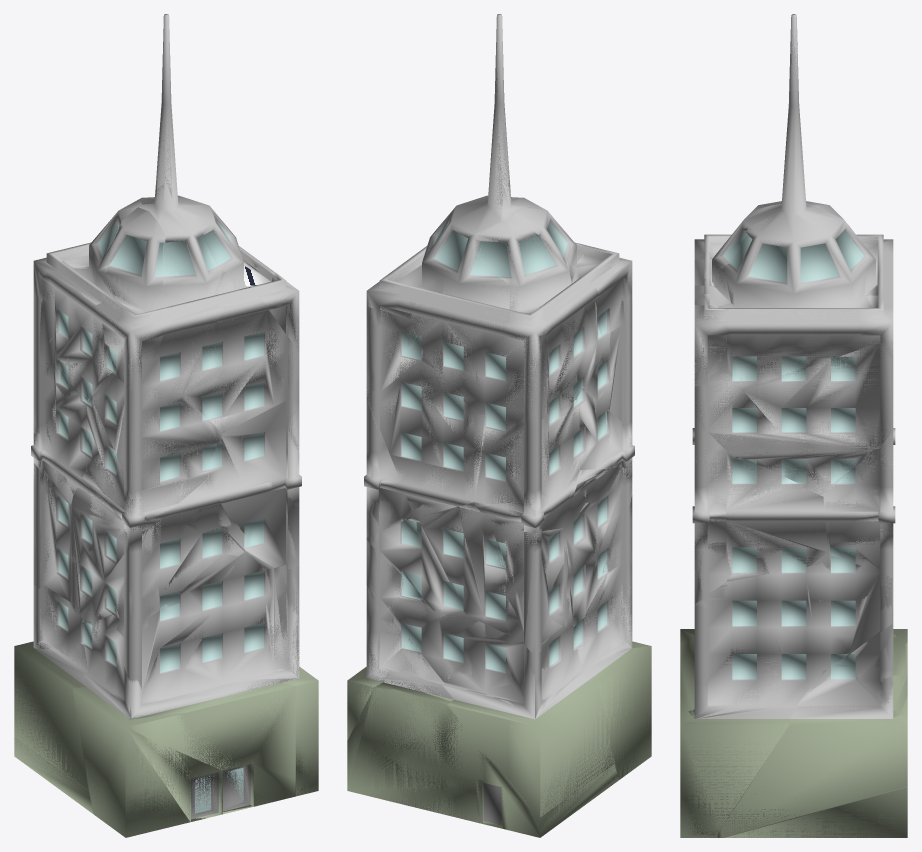
File: Building3.fbx
3 renders of one model, left to right at view 1: azimuth 30°, elevation 25°; view 2: azimuth 150°, elevation 25°; view 3: azimuth 270°, elevation 25°, orthographic. The views are drawn at different scales.
Visible parts, largest first — view 1: Cube.006, Cube.006_cell.023, Cube.006_cell.026, Cube.006_cell.015, Cube.006_cell.028, Cube.006_cell.018, Cube.006_cell.022, Cube.006_cell.001, Cube.006_cell.005, Cube.006_cell.017, Cube.006_cell.010, Cube.006_cell.025 (+7 smaller); view 2: Cube.006, Cube.006_cell.020, Cube.006_cell.028, Cube.006_cell.022, Cube.006_cell.019, Cube.006_cell.023, Cube.006_cell.011, Cube.006_cell.029, Cube.006_cell.005, Cube.006_cell.010, Cube.006_cell.007, Cube.006_cell.012 (+13 smaller); view 3: Cube.006, Cube.006_cell.024, Cube.006_cell, Cube.006_cell.013, Cube.006_cell.002, Cube.006_cell.006, Cube.006_cell.020, Cube.006_cell.014, Cube.006_cell.009, Cube.006_cell.027, Cube.006_cell.026, Cube.006_cell.018 (+4 smaller).
Part boxes in pixels (x1,y1,x2,y2): Cube.006: (14, 15, 318, 837); Cube.006_cell.023: (73, 551, 295, 837); Cube.006_cell.026: (208, 397, 301, 569); Cube.006_cell.015: (92, 373, 221, 498); Cube.006_cell.028: (14, 585, 88, 789); Cube.006_cell.018: (138, 173, 222, 394); Cube.006_cell.022: (49, 199, 141, 399); Cube.006_cell.001: (183, 270, 299, 432); Cube.006_cell.005: (71, 471, 146, 623); Cube.006_cell.017: (86, 399, 208, 534); Cube.006_cell.010: (33, 463, 70, 602); Cube.006_cell.025: (116, 479, 245, 624); Cube.006: (347, 15, 651, 833); Cube.006_cell.020: (347, 638, 618, 837); Cube.006_cell.028: (409, 615, 613, 816); Cube.006_cell.022: (469, 221, 600, 409); Cube.006_cell.019: (366, 356, 473, 517); Cube.006_cell.023: (574, 563, 651, 779); Cube.006_cell.011: (423, 502, 523, 641); Cube.006_cell.029: (409, 247, 550, 428); Cube.006_cell.005: (564, 467, 632, 628); Cube.006_cell.010: (493, 528, 564, 653); Cube.006_cell.007: (366, 517, 465, 616); Cube.006_cell.012: (473, 412, 541, 506); Cube.006: (680, 15, 907, 837); Cube.006_cell.024: (715, 666, 907, 837); Cube.006_cell: (705, 340, 893, 494); Cube.006_cell.013: (680, 583, 812, 837); Cube.006_cell.002: (726, 452, 828, 581); Cube.006_cell.006: (726, 47, 892, 389); Cube.006_cell.020: (725, 675, 907, 837); Cube.006_cell.014: (824, 438, 895, 569); Cube.006_cell.009: (819, 557, 891, 653); Cube.006_cell.027: (694, 294, 727, 386); Cube.006_cell.026: (692, 431, 726, 603); Cube.006_cell.018: (694, 204, 816, 287).
Size of what is drawn, in the model's own units: 142 by 536 by 142.
